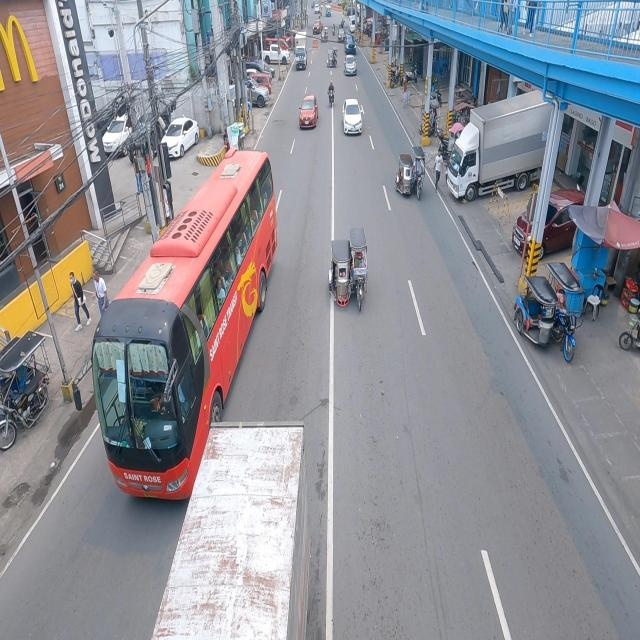Truck: (294, 31, 308, 72)
